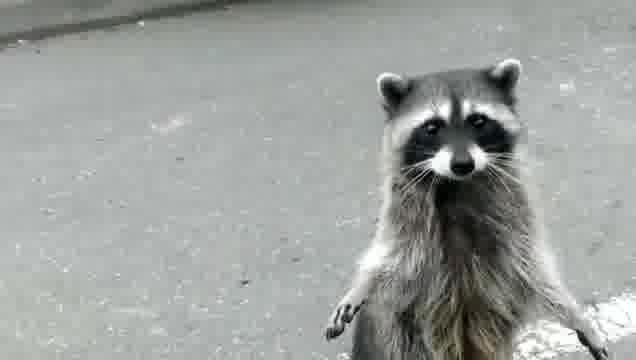raccoon: (325, 56, 611, 360)
